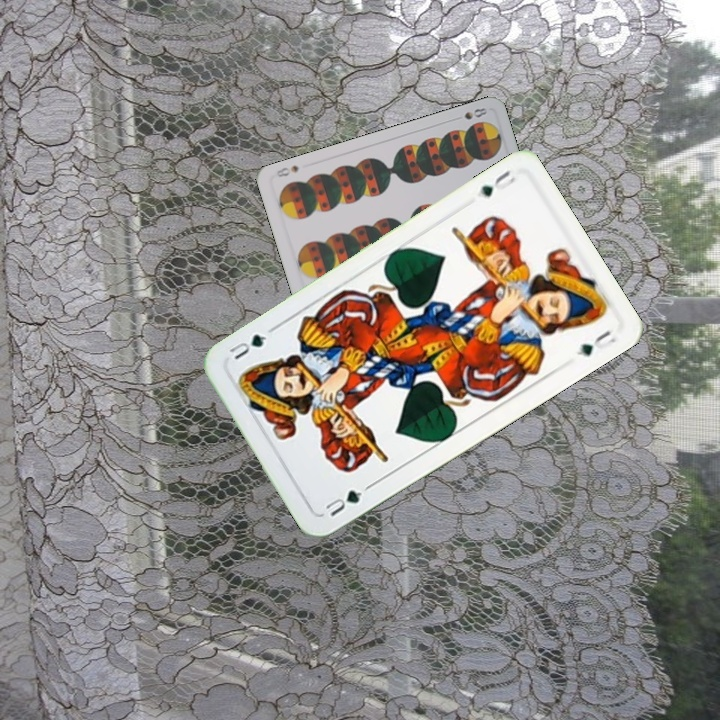GU: (321, 485, 365, 520), (476, 165, 518, 200)
S8: (450, 104, 490, 123)
